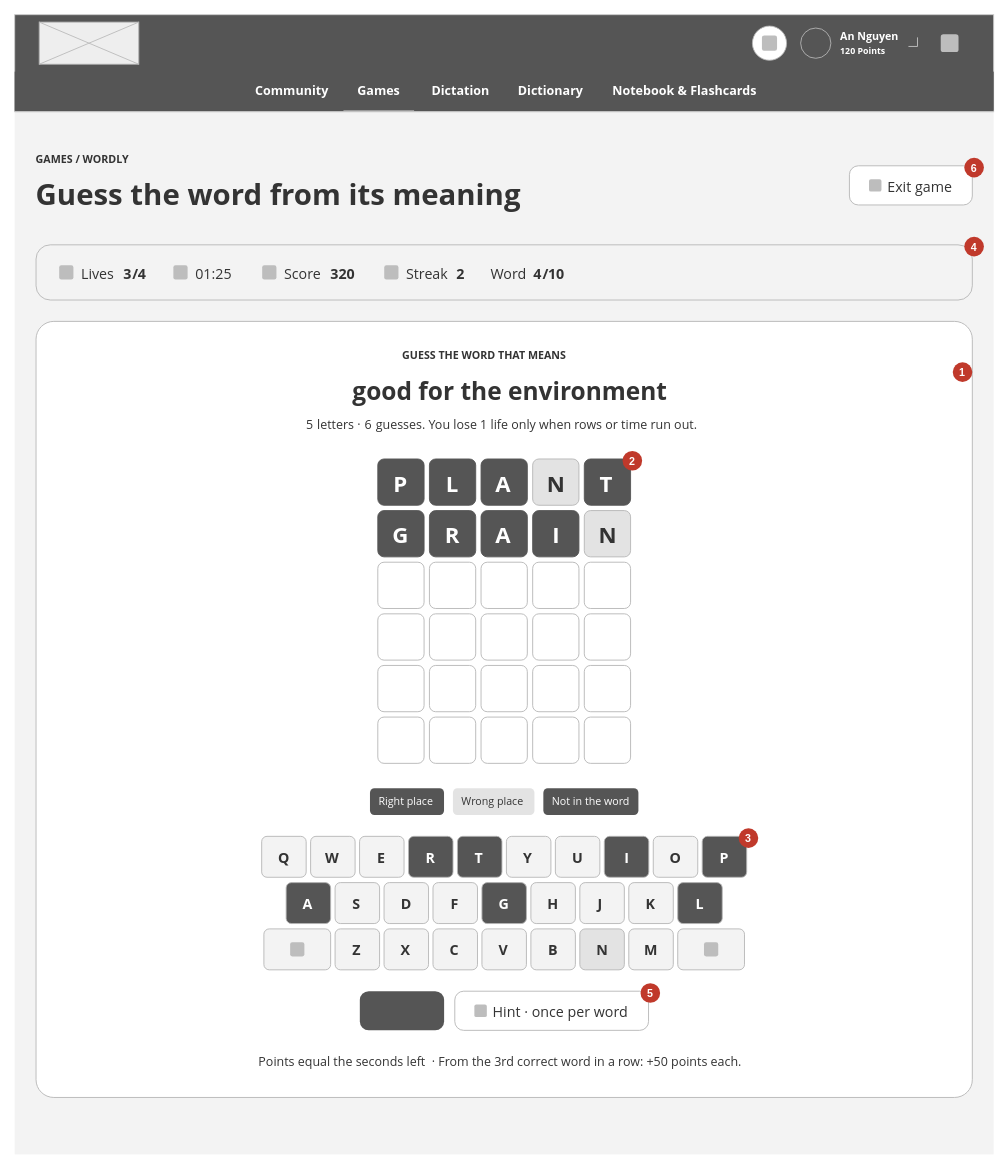
Some shapes in this 1008 by 1169 pixel diagram are drawn without their labels. The centre of each missing label's shape, as x and y in pixels:
"AN" belongs at point (815, 42).
"Submit" belongs at point (401, 1010).
